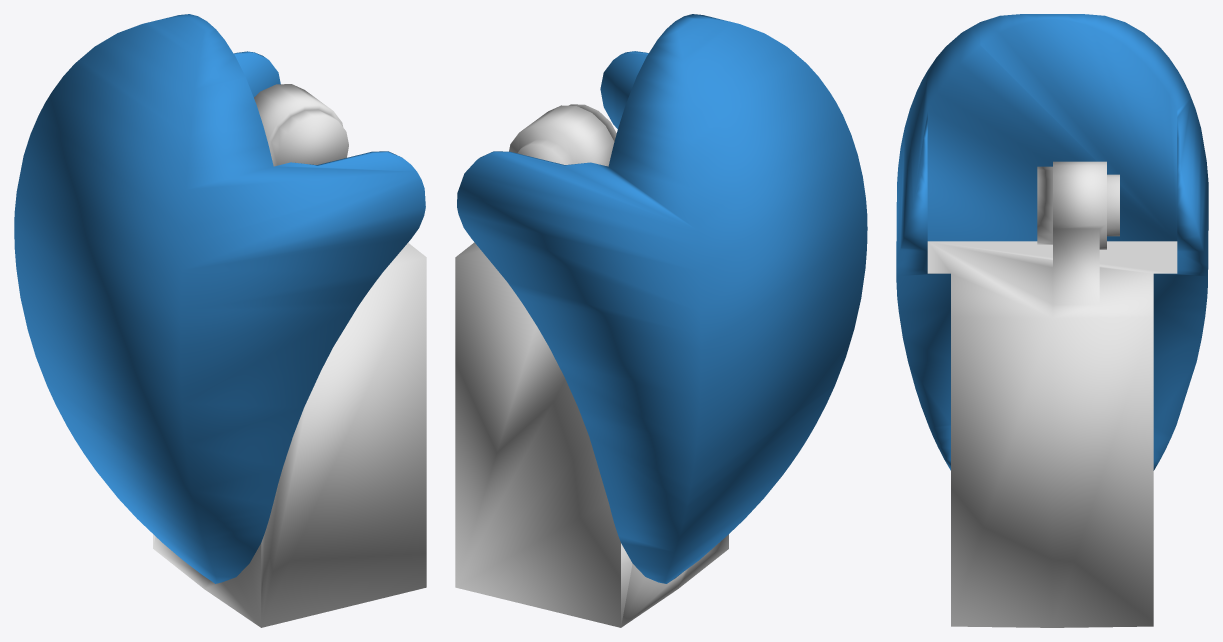
Rendered from ELBOW_P.dae.
3 renders of one model, left to right at view 1: azimuth 30°, elevation 25°; view 2: azimuth 150°, elevation 25°; view 3: azimuth 270°, elevation 25°, orthographic. The views are drawn at different scales.
Visible parts, largest first — view 1: ShapeIndexedFaceS_031, ShapeIndexedFaceS_030; view 2: ShapeIndexedFaceS_031, ShapeIndexedFaceS_030; view 3: ShapeIndexedFaceS_030, ShapeIndexedFaceS_031.
Part boxes in pixels (x1=…): ShapeIndexedFaceS_031: x1=14, y1=14, x2=425, y2=583; ShapeIndexedFaceS_030: x1=153, y1=84, x2=426, y2=627; ShapeIndexedFaceS_031: x1=457, y1=14, x2=867, y2=583; ShapeIndexedFaceS_030: x1=455, y1=104, x2=728, y2=627; ShapeIndexedFaceS_030: x1=927, y1=161, x2=1177, y2=627; ShapeIndexedFaceS_031: x1=896, y1=14, x2=1208, y2=470.
Bounding box in the file's own units: 0.0965 × 0.1002 × 0.188.
